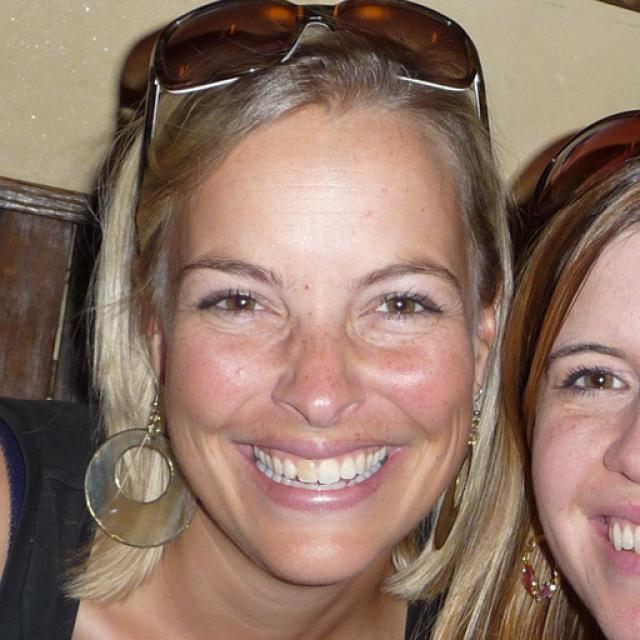Acne: (228, 358, 251, 390)
Pigmentation: (270, 326, 336, 377)
